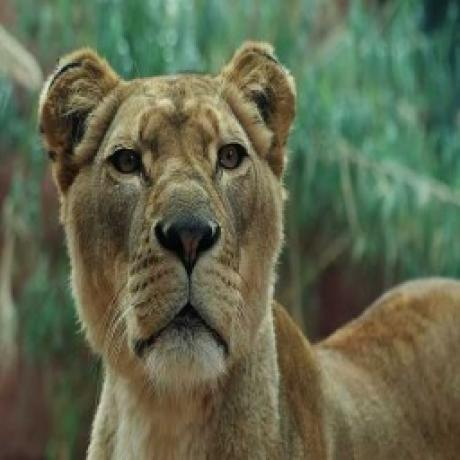Lion: (37, 39, 460, 458)
